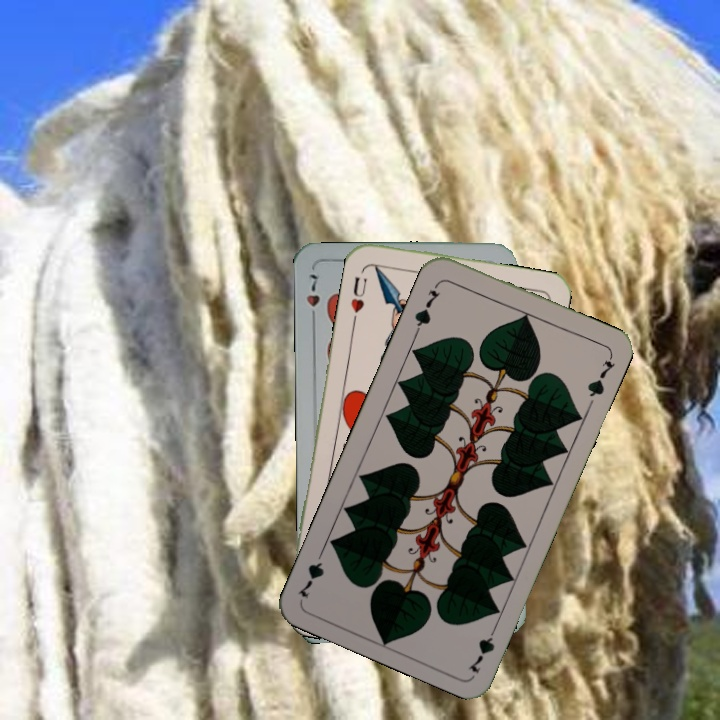G7: (464, 619, 501, 676), (410, 286, 443, 335)
H7: (302, 270, 322, 327)
HU: (346, 272, 370, 315)
